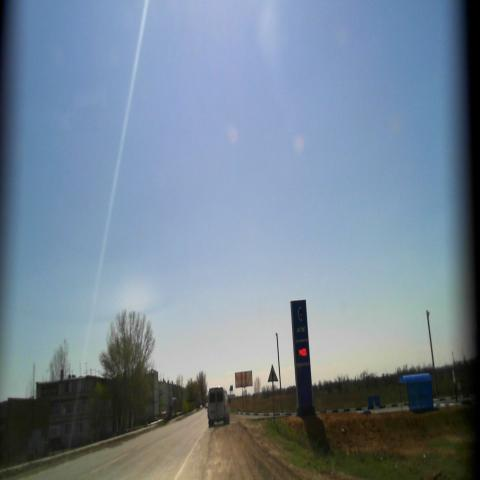2_3_2: (268, 362, 280, 381)
